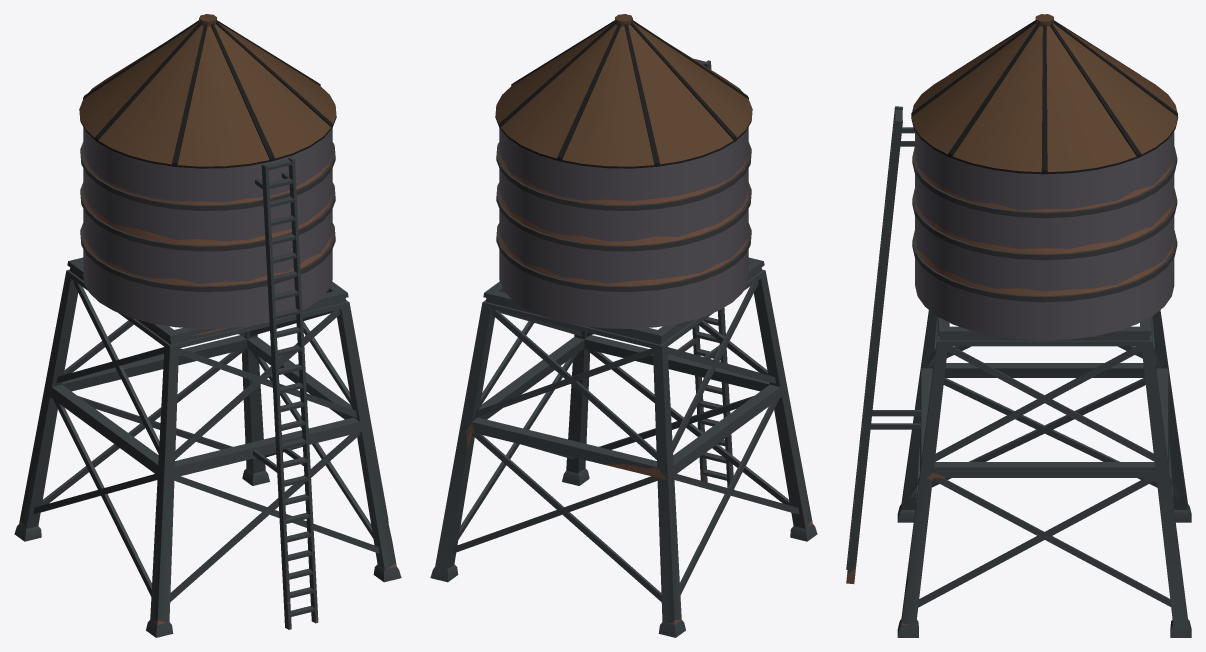
File: SM_BuildingsDecor_71.fbx
3 renders of one model, left to right at view 1: azimuth 30°, elevation 25°; view 2: azimuth 150°, elevation 25°; view 3: azimuth 270°, elevation 25°, orthographic. The views are drawn at different scales.
Visible parts, largest first — view 1: SM_BuildingsDecor_71; view 2: SM_BuildingsDecor_71; view 3: SM_BuildingsDecor_71.
Part boxes in pixels (x1,y1,x2,y2): SM_BuildingsDecor_71: [14, 14, 401, 637]; SM_BuildingsDecor_71: [430, 14, 817, 637]; SM_BuildingsDecor_71: [846, 14, 1191, 637].
Size of the model in its own units: 3.54 by 7.42 by 4.16.
